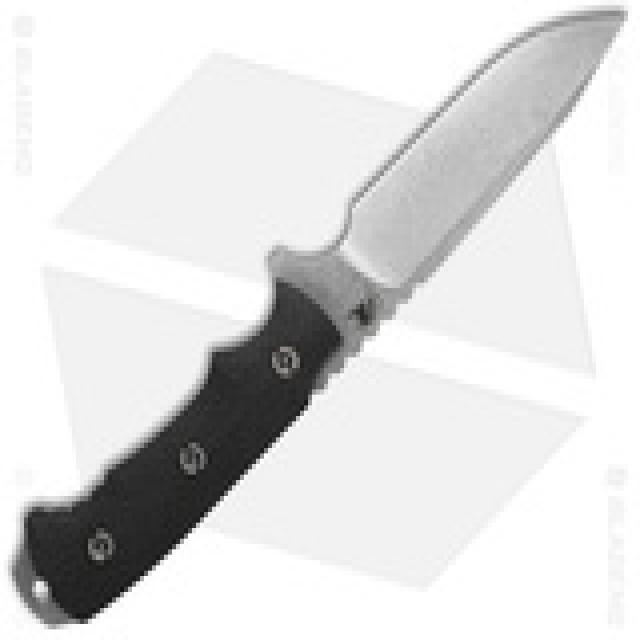Knife: (17, 7, 630, 623)
